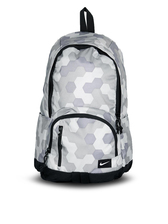bag: (34, 5, 139, 183)
